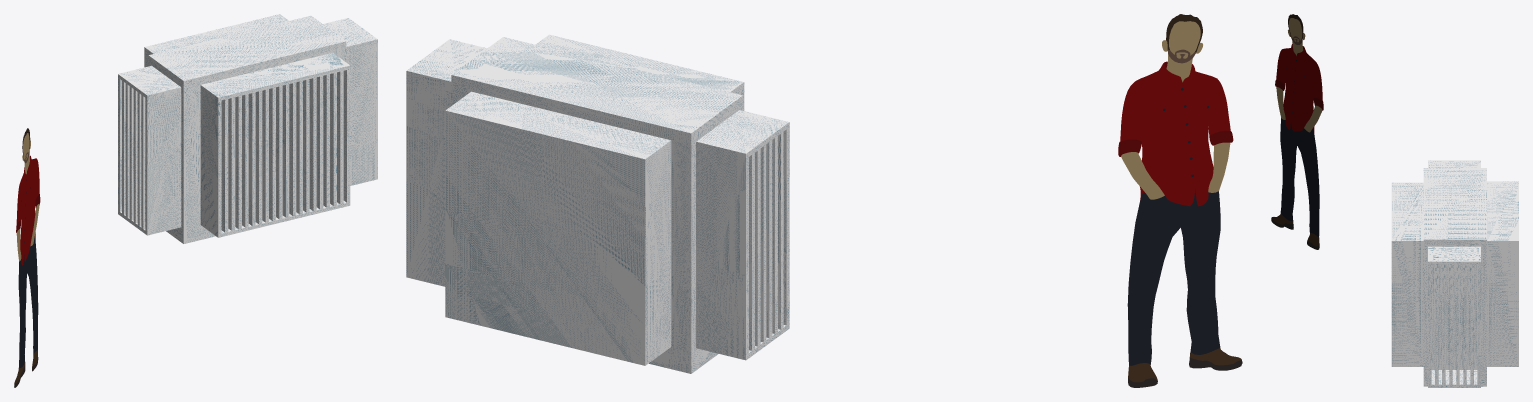
3 renders of one model, left to right at view 1: azimuth 30°, elevation 25°; view 2: azimuth 150°, elevation 25°; view 3: azimuth 270°, elevation 25°, orthographic. The views are drawn at different scales.
Parts seen in each view (by area): view 1: SketchUp (×5), Josh (×2); view 2: SketchUp (×4), Josh (×4); view 3: SketchUp (×4), Josh (×4).
Boxes of the visible parts, box(x1,y1,x2,y2) form: SketchUp (×5): box(118, 14, 377, 243); Josh (×2): box(16, 156, 39, 368); SketchUp (×4): box(406, 34, 789, 373); Josh (×4): box(1120, 21, 1230, 365); SketchUp (×4): box(1391, 160, 1518, 387); Josh (×4): box(1276, 18, 1322, 236).
Size of the model in its own units: 133 by 70.2 by 70.73.
